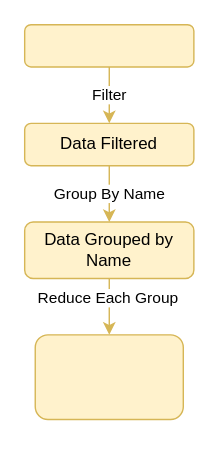
The diagram is 219 pixels wide and 450 high, and some of its shapes have lost their labels. Here are the shapes that lost their labels. From the top down, the box of each, then its label:
(23, 23, 194, 67): data
(34, 333, 183, 419): { name: "", Working Hours }
